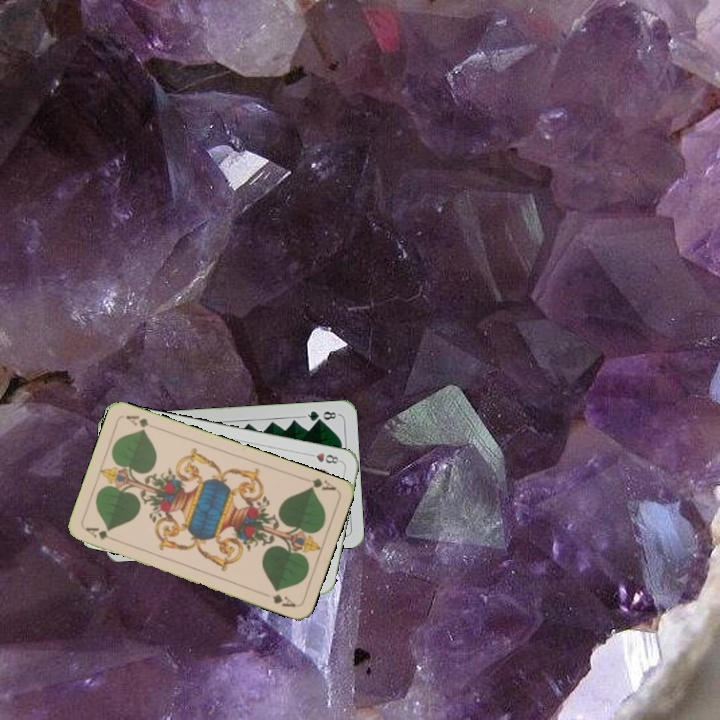G8: (300, 407, 341, 424)
GA: (81, 523, 121, 544), (304, 474, 339, 493)
H8: (303, 448, 343, 466)
